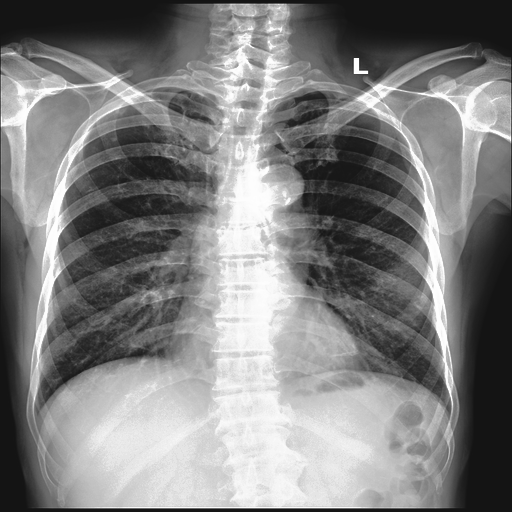Calcification: (117, 85, 155, 110), (330, 88, 365, 103)
Consolidation: (248, 163, 304, 210)
Pneumothorax: (301, 103, 328, 137), (172, 99, 193, 129)
